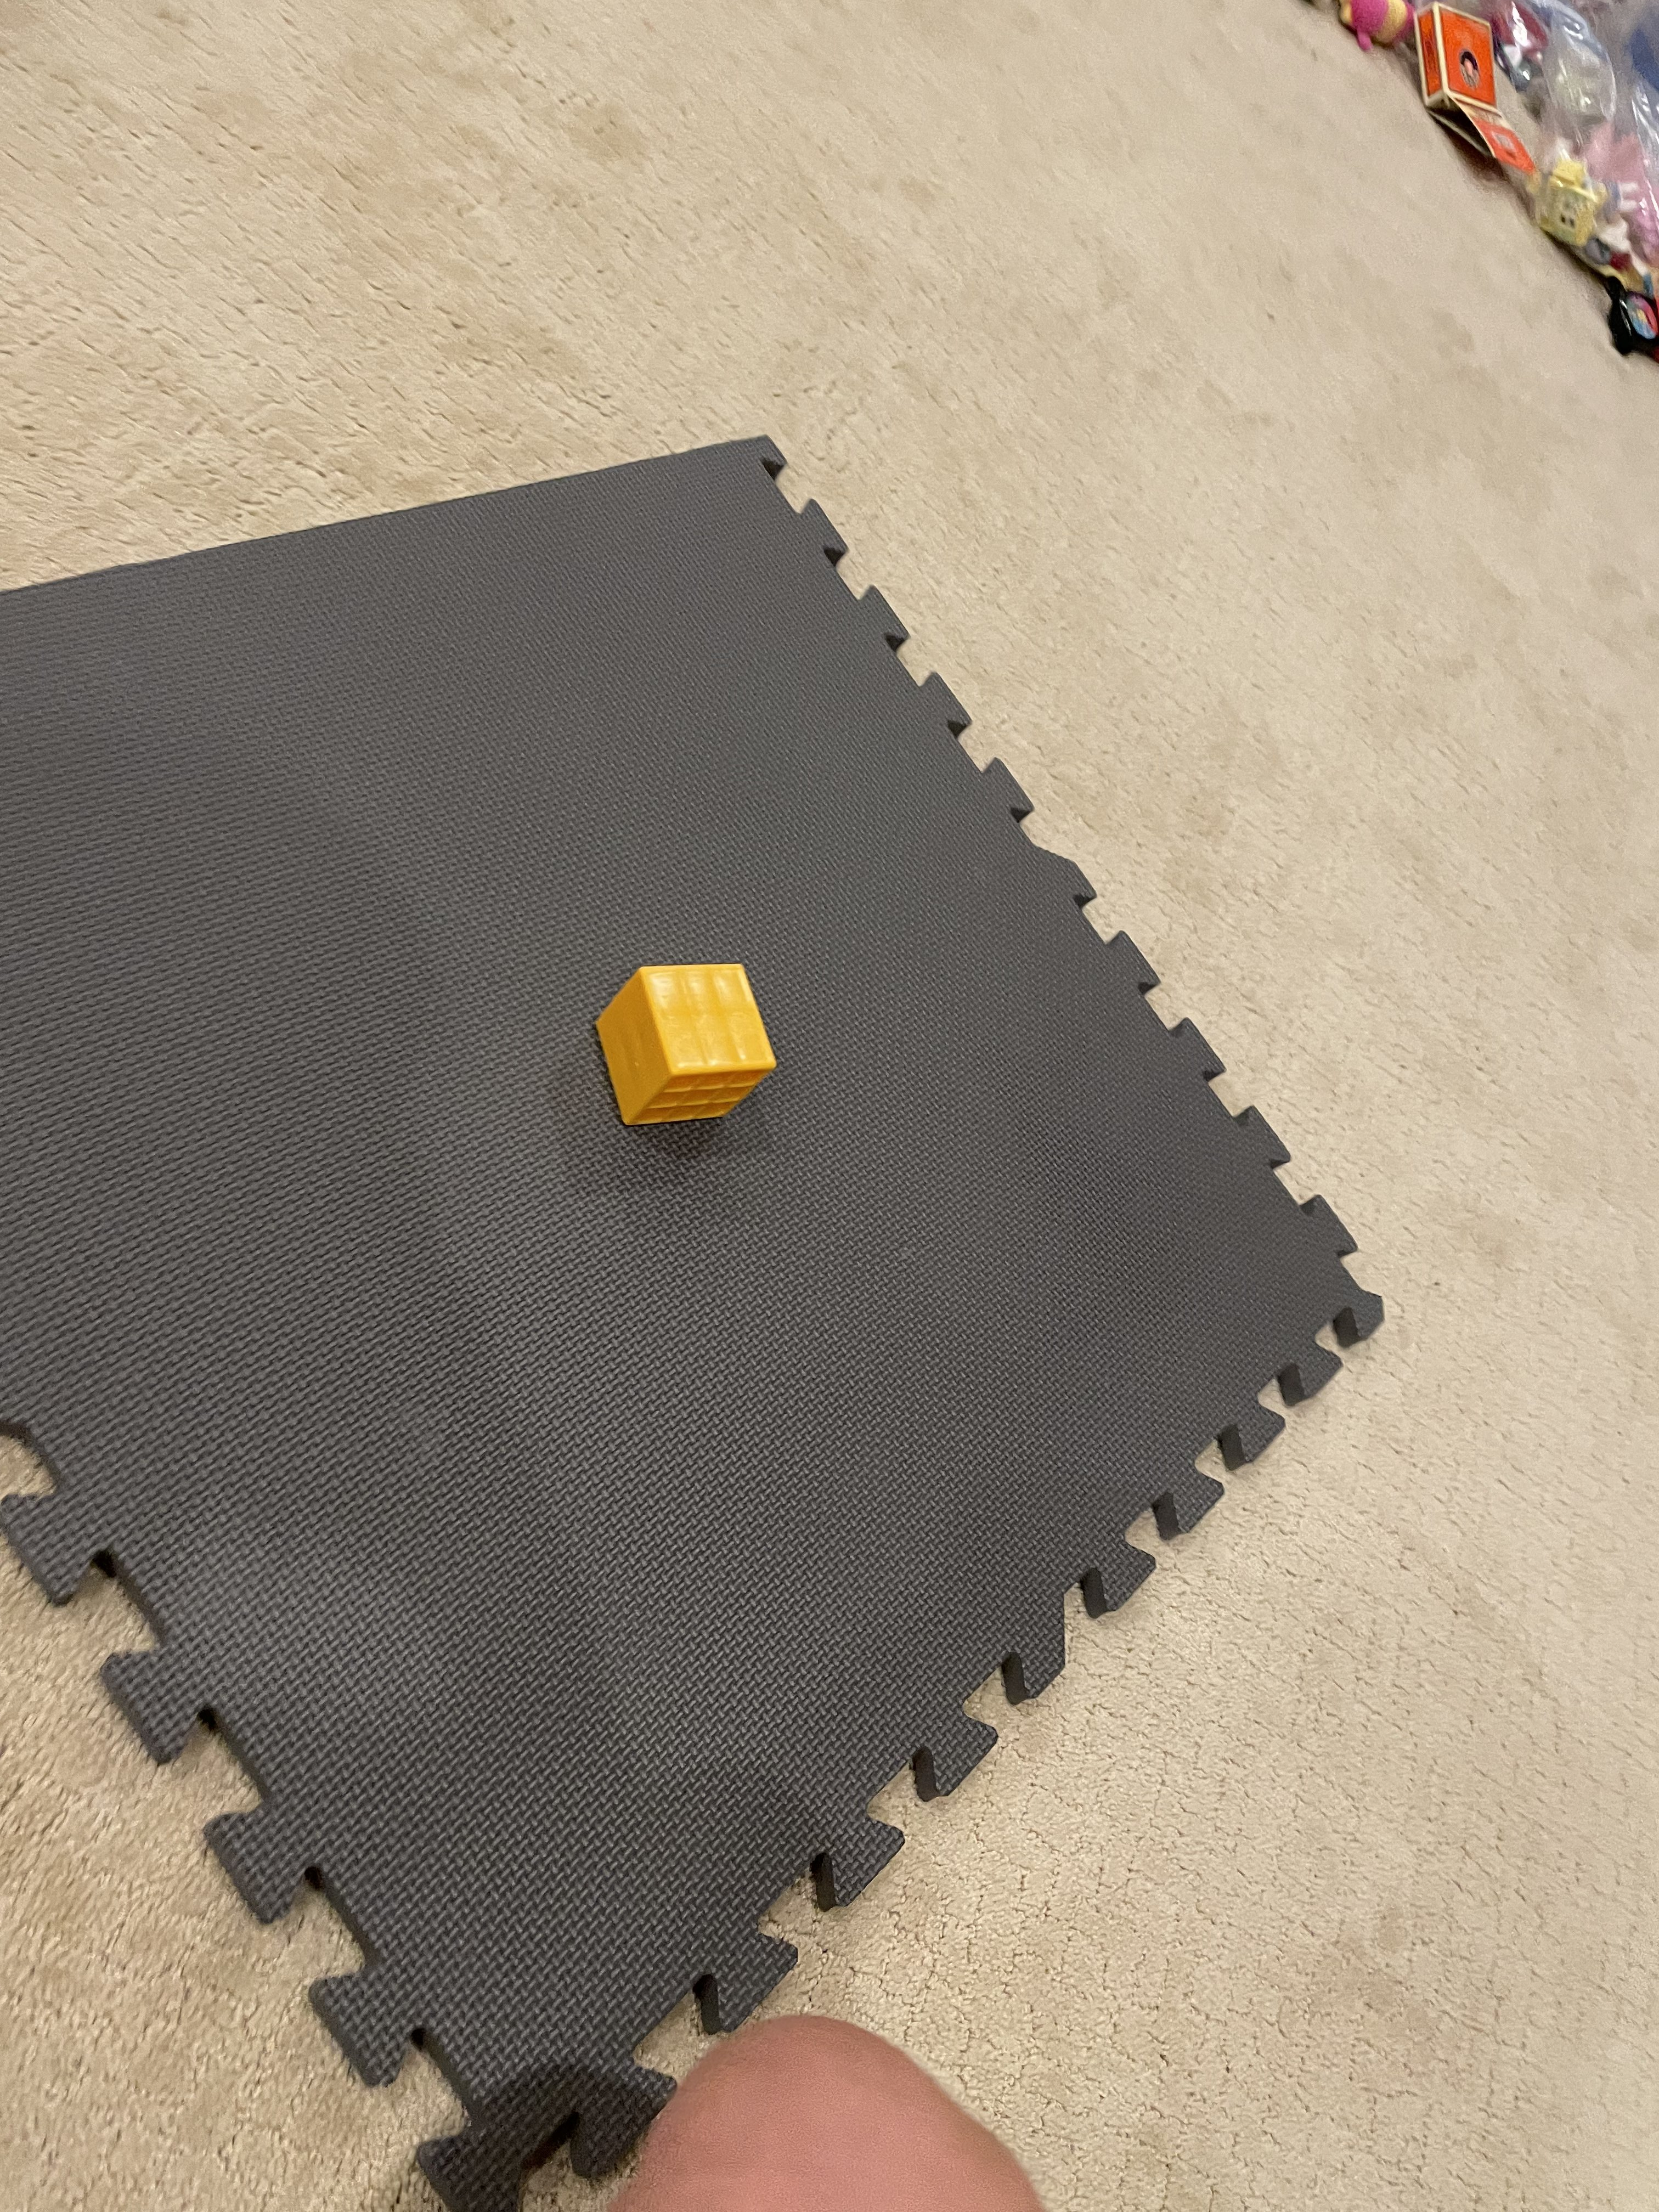cube: (575, 932, 796, 1172)
